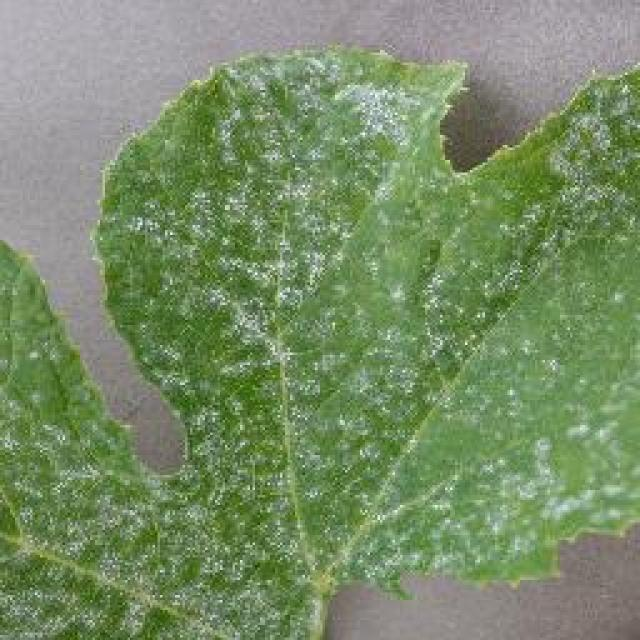Squ_Powdery_mildew: (128, 112, 541, 566)
